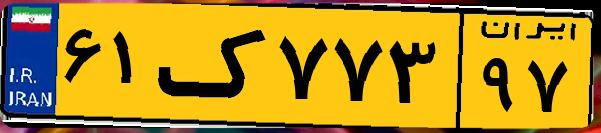1: (110, 28, 158, 98)
3: (385, 28, 445, 110)
6: (57, 26, 110, 100)
7: (270, 28, 330, 110), (330, 28, 385, 110), (525, 38, 570, 115)
9: (475, 38, 525, 113)
ک: (158, 12, 270, 120)
